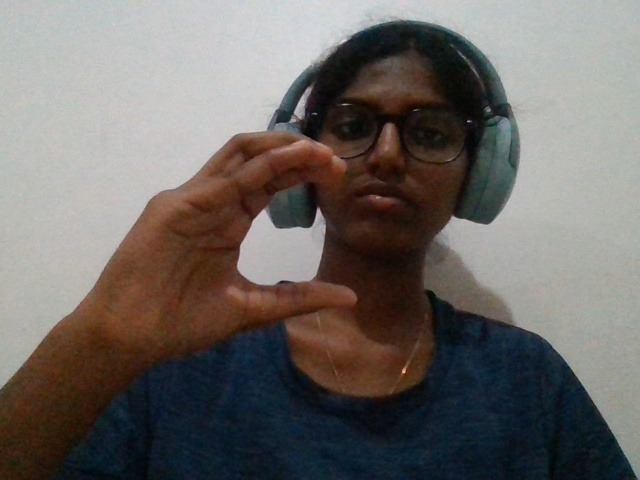C: (35, 105, 373, 409)
